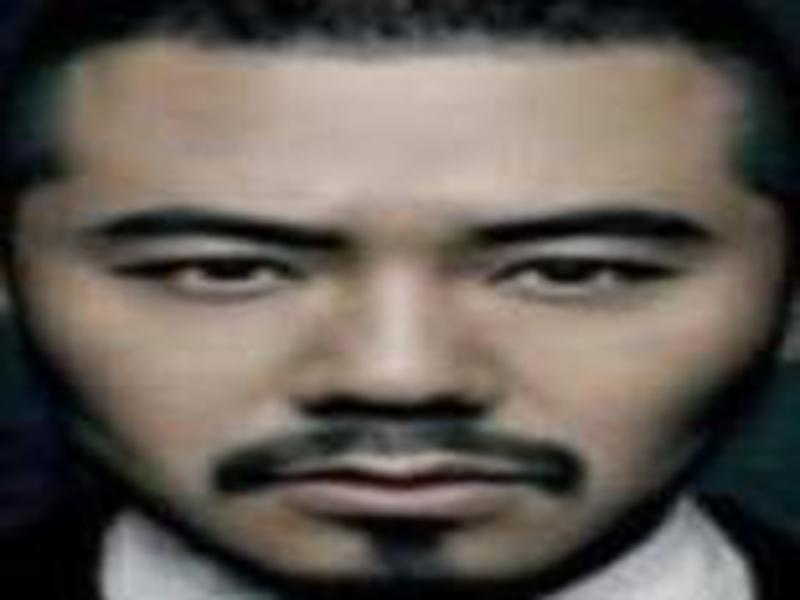without_mask: (21, 34, 775, 585)
